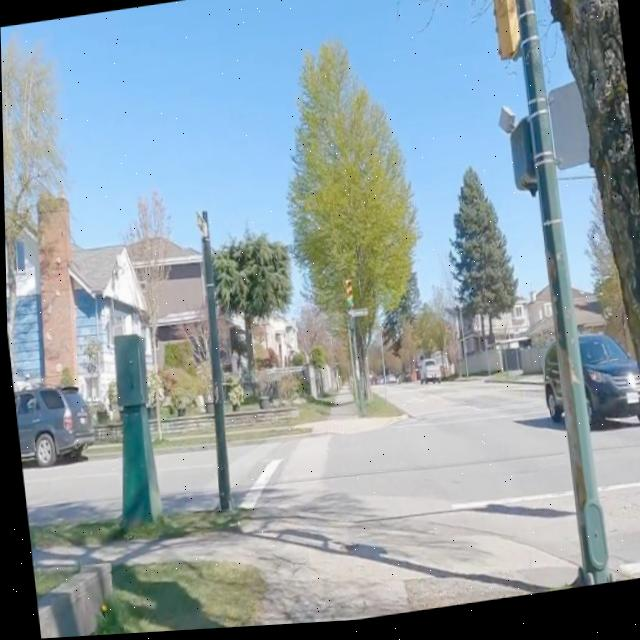Automobile: (12, 385, 91, 466), (577, 340, 640, 435), (540, 351, 561, 426), (418, 363, 439, 387)
Obstacle: (515, 0, 605, 592), (545, 0, 640, 393), (96, 563, 264, 636), (195, 212, 230, 513), (112, 335, 159, 529), (26, 511, 247, 548), (34, 563, 108, 639), (342, 283, 363, 418), (350, 312, 371, 414), (361, 398, 399, 421)
Road: (319, 389, 576, 568), (591, 427, 640, 572), (20, 455, 117, 522), (153, 453, 213, 511), (228, 444, 288, 493), (278, 439, 328, 485)
Sidewalk: (28, 507, 577, 629), (304, 418, 405, 438), (321, 393, 352, 417)
